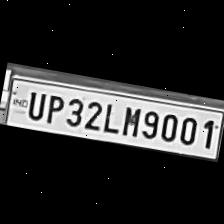0: (174, 110, 200, 146), (155, 108, 180, 142)
1: (194, 114, 218, 149)
2: (80, 96, 105, 132)
3: (62, 92, 86, 128)
9: (137, 104, 161, 140)
L: (99, 98, 122, 134)
M: (116, 100, 142, 138)
P: (40, 88, 64, 124)
U: (22, 86, 47, 121)
